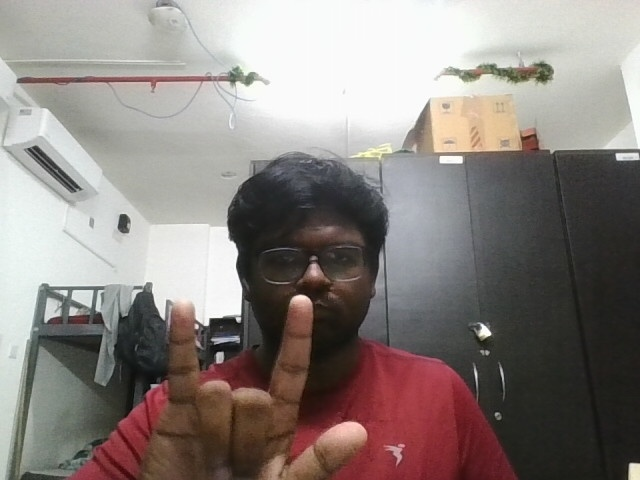I Love You: (133, 279, 377, 480)
